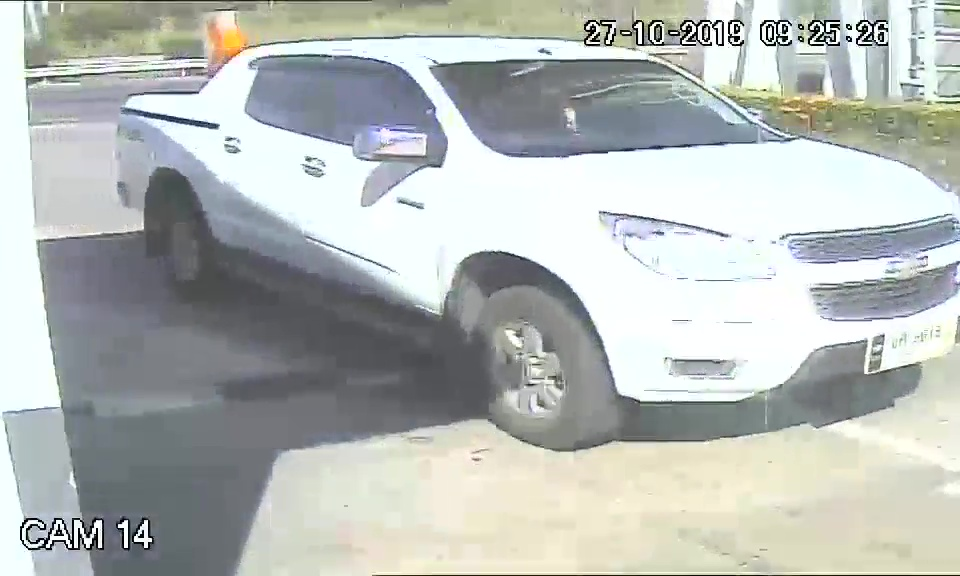pickup: (112, 32, 959, 451)
